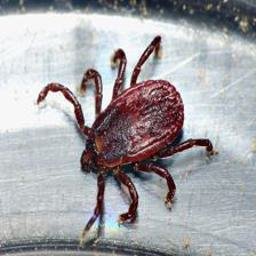Dermacentor variabilis: (36, 32, 215, 233)
